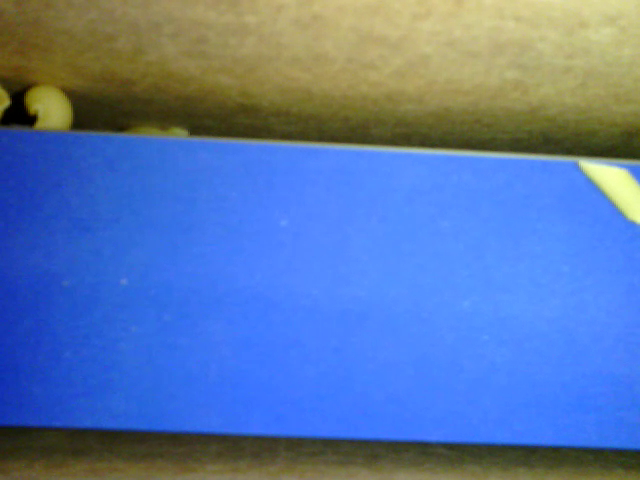penne: (575, 158, 636, 228)
shell: (19, 85, 74, 131)
